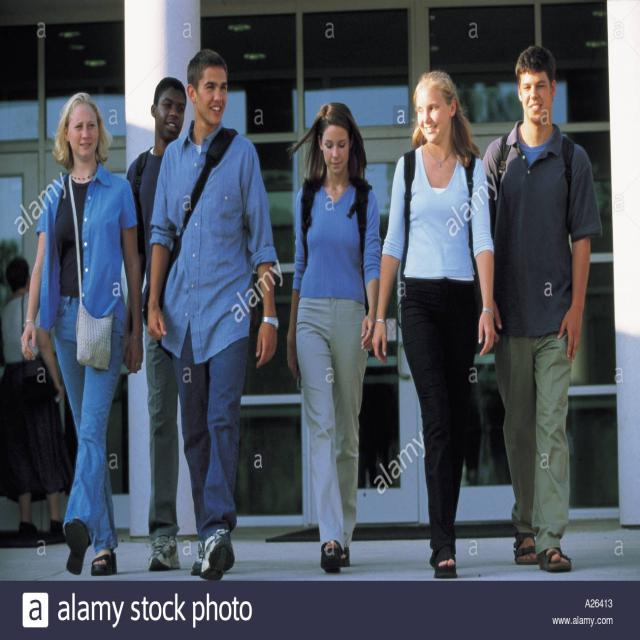body: (143, 43, 282, 582), (369, 65, 498, 583), (17, 85, 147, 582), (482, 44, 604, 573), (284, 96, 384, 576), (123, 74, 206, 576), (0, 249, 77, 549)
